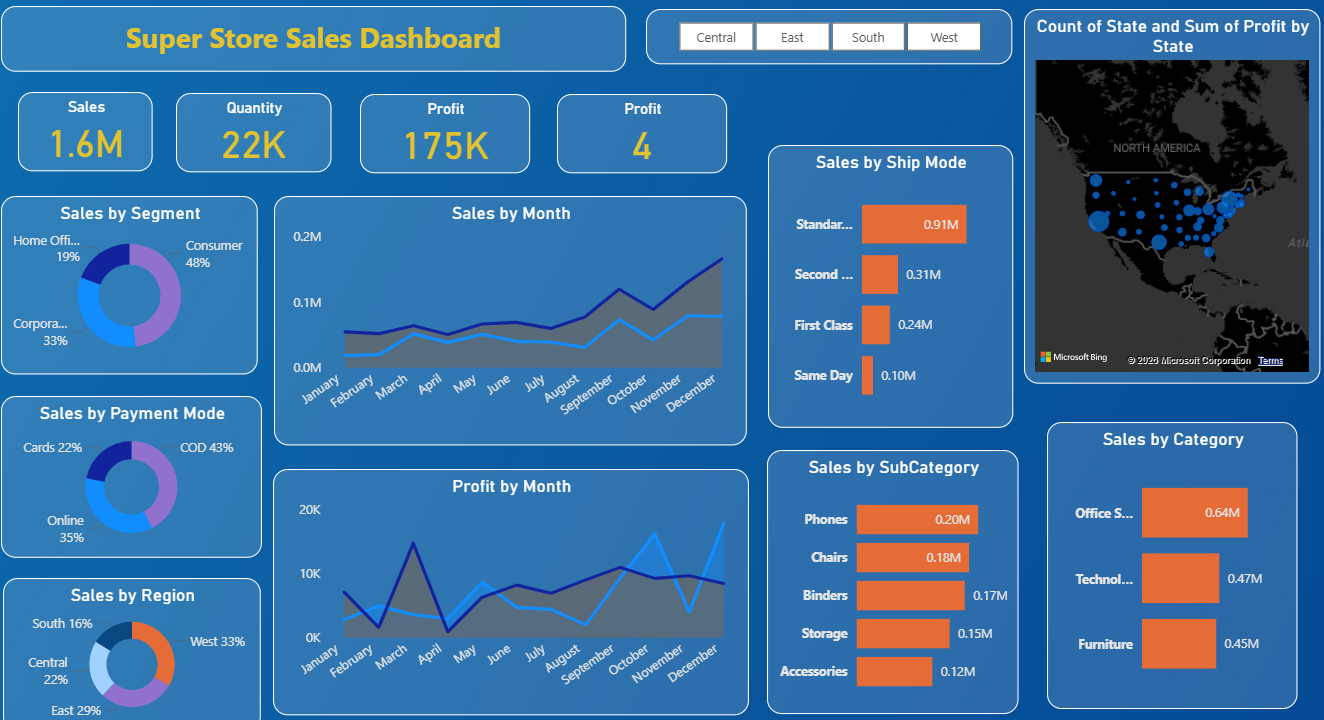

This screenshot's page, from the dashboard's own definition file:
{"tool":"powerbi","page":{"name":"Page 1","canvas":[1280,720],"ordinal":0},"visuals":[{"type":"clusteredBarChart","title":"Sales by Category","fields":{"Category":["Sheet1.Category"],"Y":["Sum(Sheet1.Sales)"]},"box":[1009.1,420.3,240.3,274.9],"z":0},{"type":"clusteredBarChart","title":"Sales by SubCategory","fields":{"Category":["Sheet1.Sub-Category"],"Y":["Sum(Sheet1.Sales)"]},"box":[741.6,442.6,241.4,252.9],"z":1000},{"type":"clusteredBarChart","title":"Sales by Ship Mode","fields":{"Category":["Sheet1.Ship Mode"],"Y":["Sum(Sheet1.Sales)"]},"box":[742.5,150.4,234.7,271.1],"z":2000},{"type":"map","fields":{"Category":["Sheet1.State"],"Size":["CountNonNull(Sheet1.State)"]},"box":[988,20,284,359],"z":3000},{"type":"donutChart","title":"Sales by Segment","fields":{"Category":["Sheet1.Segment"],"Y":["Sum(Sheet1.Sales)"]},"box":[7.7,199.3,246.2,171.5],"z":4000},{"type":"donutChart","title":"Sales by Payment Mode","fields":{"Category":["Sheet1.Payment Mode"],"Y":["Sum(Sheet1.Sales)"]},"box":[7.7,390.9,250.1,155.2],"z":5000},{"type":"slicer","fields":{"Values":["Sheet1.Region"]},"box":[626,20,351,53],"z":6000},{"type":"textbox","box":[7.7,17.2,598.8,63.2],"z":7000},{"type":"card","title":"Sales","fields":{"Values":["Sum(Sheet1.Sales)"]},"box":[24,99.6,129.3,75.7],"z":8000},{"type":"card","title":"Quantity","fields":{"Values":["Sum(Sheet1.Quantity)"]},"box":[175.3,100.6,148.5,75.7],"z":9000},{"type":"card","title":"Profit","fields":{"Values":["Sum(Sheet1.Profit)"]},"box":[351.6,101.6,162.9,75.7],"z":10000},{"type":"card","title":"Avg Delivery","fields":{"Values":["Avg(Sheet1.AvgDelivery)"]},"box":[540.4,101.6,162.9,75.7],"z":11000},{"type":"donutChart","title":"Sales by Region","fields":{"Category":["Sheet1.Region"],"Y":["Sum(Sheet1.Sales)"]},"box":[9.6,565.3,247.2,146.6],"z":12000},{"type":"areaChart","title":"Sales by Month","fields":{"Y":["Sum(Sheet1.Sales)"],"Category":["Sheet1.Order Date.Variation.Date Hierarchy.Month","Sheet1.Order Date.Variation.Date Hierarchy.Day"],"Series":["Sheet1.Order Date.Variation.Date Hierarchy.Year"]},"box":[269.2,199.3,453.2,238.6],"z":13000},{"type":"areaChart","title":"Profit by Month","fields":{"Category":["Sheet1.Order Date.Variation.Date Hierarchy.Month","Sheet1.Order Date.Variation.Date Hierarchy.Day"],"Series":["Sheet1.Order Date.Variation.Date Hierarchy.Year"],"Y":["Sum(Sheet1.Profit)"]},"box":[268.3,460.8,456,235.7],"z":14000}]}

Visuals, with their boxes in screenshot pixels (x1, y1, x2, y2):
"Sales by Category" clusteredBarChart: 1040 420 1285 701
"Sales by SubCategory" clusteredBarChart: 766 443 1013 701
"Sales by Ship Mode" clusteredBarChart: 767 144 1007 421
map - Sheet1.State x CountNonNull(Sheet1.State): 1018 10 1309 377
"Sales by Segment" donutChart: 15 194 267 369
"Sales by Payment Mode" donutChart: 15 390 271 548
slicer - Sheet1.Region: 647 10 1007 64
textbox: 15 7 628 72
"Sales" card: 31 92 164 169
"Quantity" card: 186 93 338 170
"Profit" card: 367 94 533 171
"Avg Delivery" card: 560 94 727 171
"Sales by Region" donutChart: 17 568 270 718
"Sales by Month" areaChart: 282 194 746 438
"Profit by Month" areaChart: 281 461 748 702
